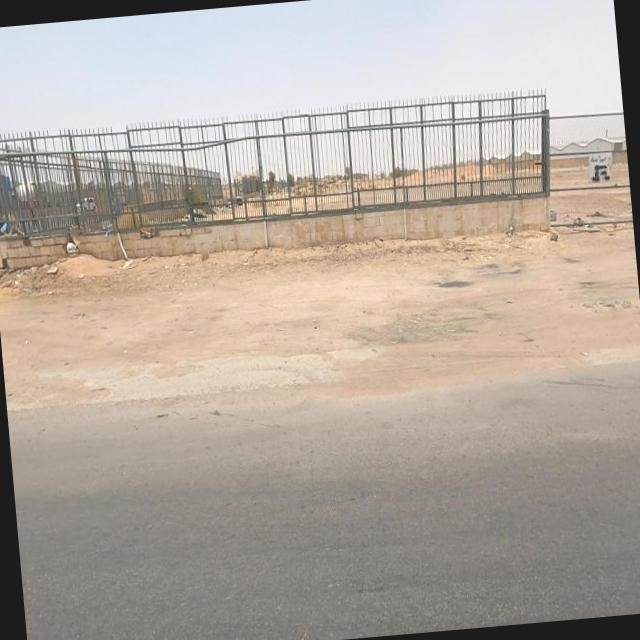debris: (23, 192, 138, 308), (12, 226, 88, 324), (0, 197, 23, 252)
